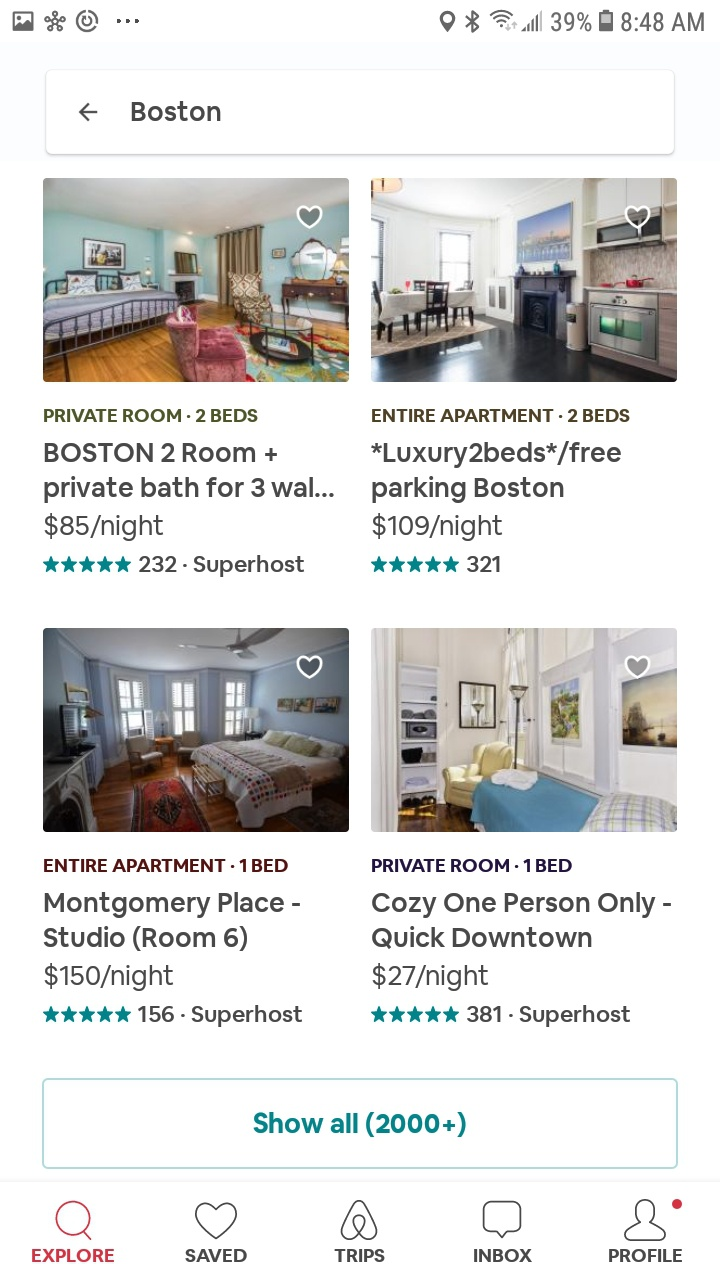EditText: (46, 69, 676, 157)
Icon: (624, 1199, 667, 1242), (195, 1201, 238, 1239), (44, 1005, 133, 1023), (371, 555, 460, 573), (43, 555, 132, 573), (482, 1200, 522, 1239), (56, 1200, 93, 1241), (371, 1006, 460, 1023), (296, 654, 324, 680), (296, 206, 324, 231), (624, 205, 651, 230), (624, 655, 651, 680), (79, 103, 99, 122)
Image: (43, 628, 350, 833), (371, 178, 677, 383), (44, 179, 350, 383), (371, 629, 677, 833), (340, 1200, 378, 1241)
Text: (44, 442, 335, 504), (372, 892, 672, 950), (371, 441, 622, 504), (43, 892, 301, 952), (139, 554, 305, 578), (44, 961, 173, 991), (372, 513, 503, 542), (138, 1005, 303, 1028), (467, 1005, 631, 1028), (44, 858, 289, 873), (372, 409, 630, 423), (45, 513, 165, 542), (372, 963, 489, 992), (372, 858, 573, 873), (44, 409, 259, 423), (131, 102, 222, 123), (32, 1248, 116, 1263), (608, 1248, 683, 1263), (185, 1248, 248, 1263), (474, 1248, 533, 1263), (334, 1248, 385, 1263), (467, 556, 501, 574)
TextButton: (43, 1078, 679, 1170)
UpperTaskBar: (1, 1, 720, 35)
